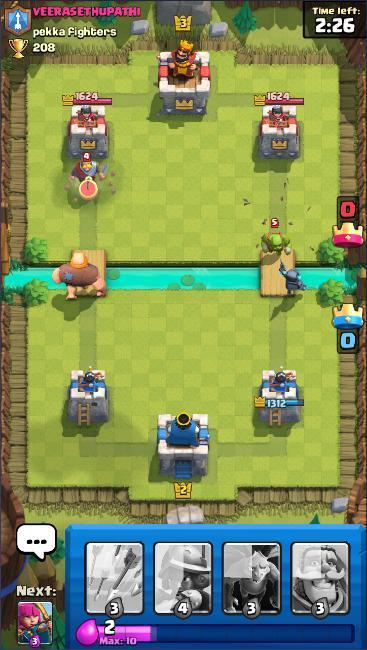ally_giant: (51, 250, 106, 302)
ally_mini_pekka: (276, 256, 308, 298)
enemy_brawler: (260, 217, 293, 258)
enemy_knight: (68, 151, 110, 194)
